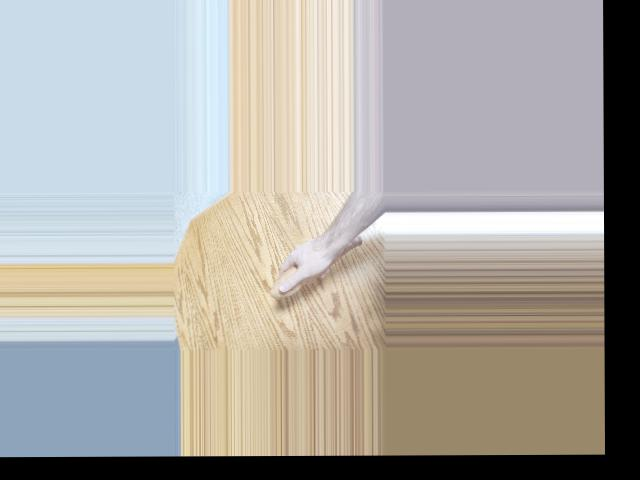sweet_potato: (268, 231, 365, 297)
